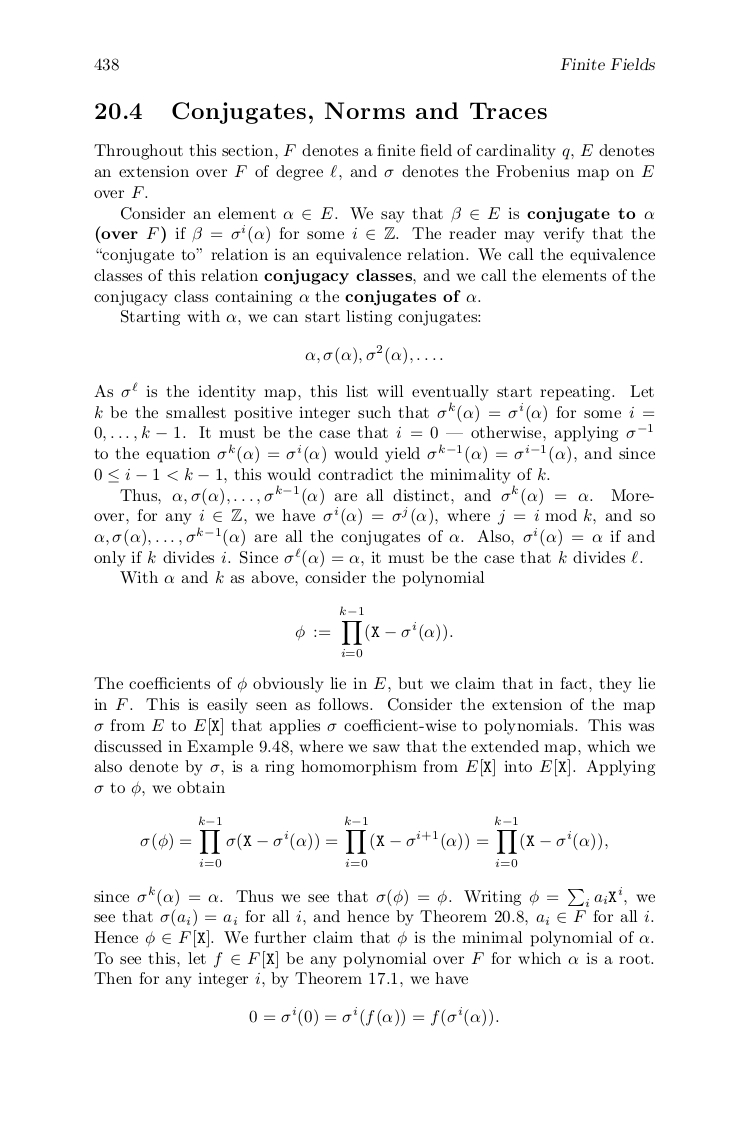formula: (140, 816, 607, 867), (295, 606, 452, 657), (249, 1005, 498, 1027), (305, 344, 442, 365)
